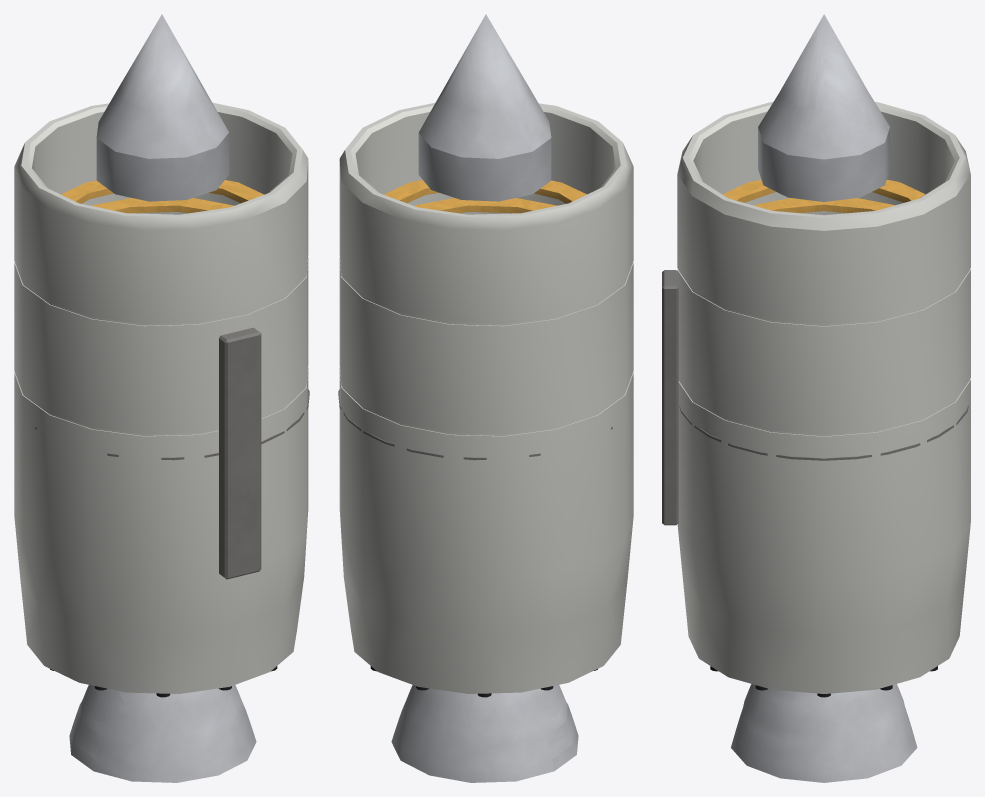
The model's file is ax_aero_30_jepc_precooled_rocket.glb.
3 views of the same model, side by side, from view 1: azimuth 30°, elevation 25°; view 2: azimuth 150°, elevation 25°; view 3: azimuth 270°, elevation 25° (orthographic).
Visible parts, largest first — view 1: nacelle, inlet_spike, rocket_bell, pylon_pad, precooler; view 2: nacelle, inlet_spike, rocket_bell, precooler; view 3: nacelle, inlet_spike, rocket_bell, pylon_pad, precooler, rear_frame.
Boxes of the visible parts, box(x1,y1,x2,y2) form: nacelle: box(14, 102, 308, 693); inlet_spike: box(96, 14, 229, 201); rocket_bell: box(69, 685, 256, 782); pylon_pad: box(219, 327, 261, 579); precooler: box(61, 180, 263, 213); nacelle: box(339, 102, 633, 693); inlet_spike: box(418, 14, 551, 201); rocket_bell: box(391, 685, 578, 782); precooler: box(384, 180, 586, 213); nacelle: box(677, 102, 970, 693); inlet_spike: box(758, 14, 889, 201); rocket_bell: box(731, 684, 917, 782); pylon_pad: box(662, 270, 678, 525); precooler: box(723, 179, 925, 213); rear_frame: box(679, 405, 968, 460).
Bounding box in the file's own units: 2.5 × 6.85 × 2.63.
Materials: 5 (3 with a texture image).
